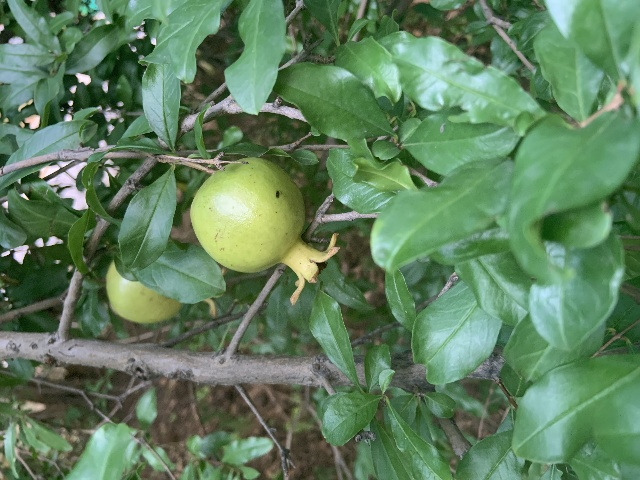mid-growth: (190, 158, 341, 307), (105, 260, 184, 323)
